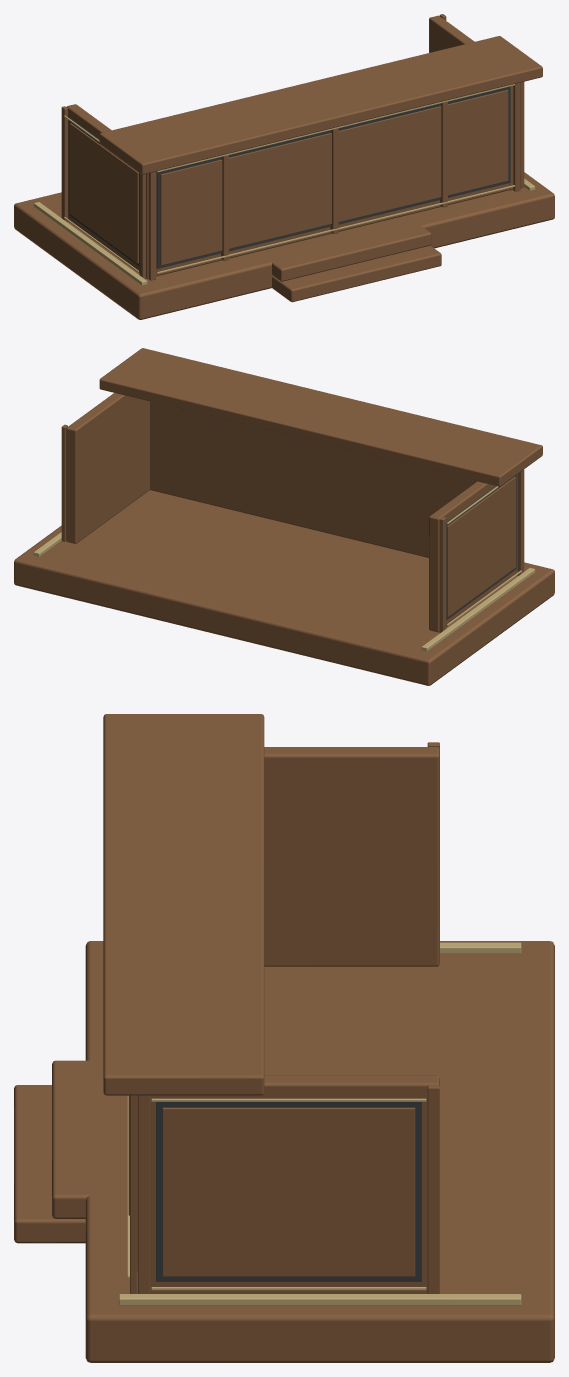
File: tribunal_juiz_banco.glb
3 views of the same model, one above another, from view 1: azimuth 30°, elevation 25°; view 2: azimuth 150°, elevation 25°; view 3: azimuth 270°, elevation 25° (orthographic). The views are drawn at different scales.
Parts seen in each view (by area): view 1: city-courthouse-and-records-office-judge-bench; view 2: city-courthouse-and-records-office-judge-bench; view 3: city-courthouse-and-records-office-judge-bench.
Boxes of the visible parts, left/top/right/bottom form: city-courthouse-and-records-office-judge-bench: left=14, top=14, right=554, bottom=319; city-courthouse-and-records-office-judge-bench: left=14, top=348, right=554, bottom=685; city-courthouse-and-records-office-judge-bench: left=14, top=714, right=554, bottom=1362.
Size of the model in its own units: 4 by 1.39 by 2.42.
